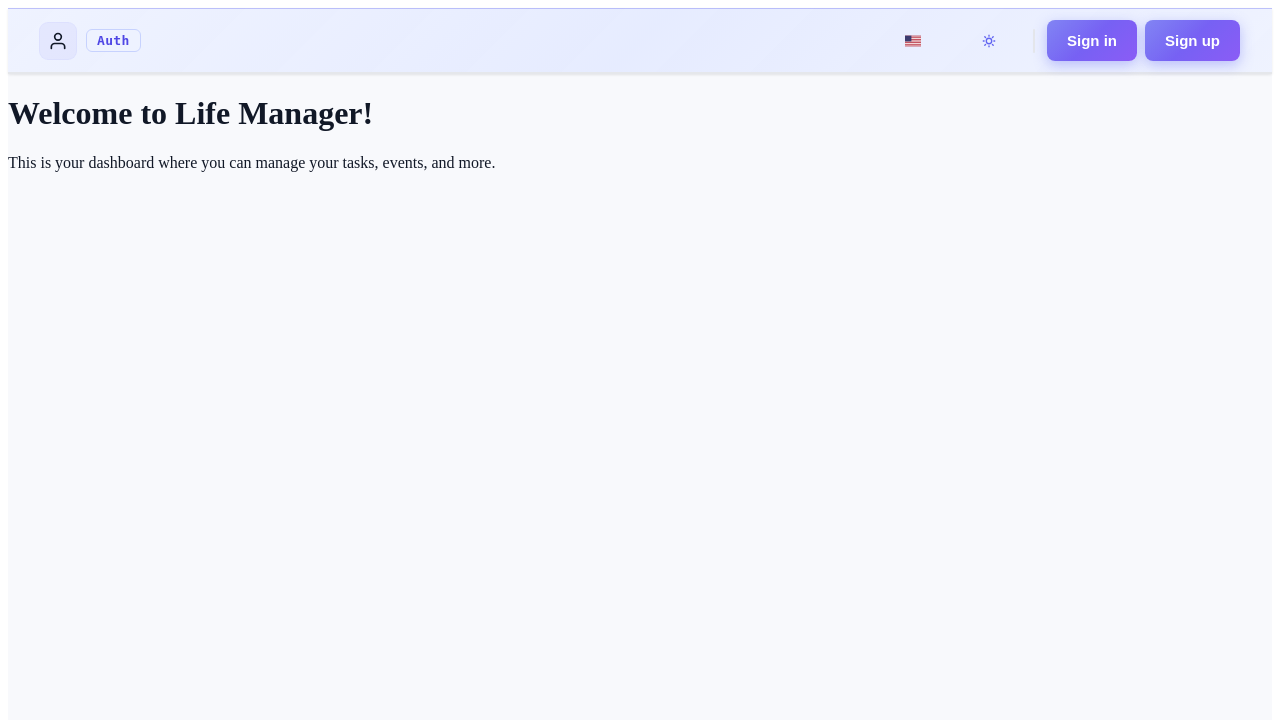
it: Navbar › walks through navbar without auth
This screenshot has width=1280, height=720.
Expected: the button "Sign up" is shown, [1145,20,1240,61]
Navigates to login page
Step 1. Click the button "Sign in" → {"x": 1092, "y": 41}, box [1047,20,1137,61]
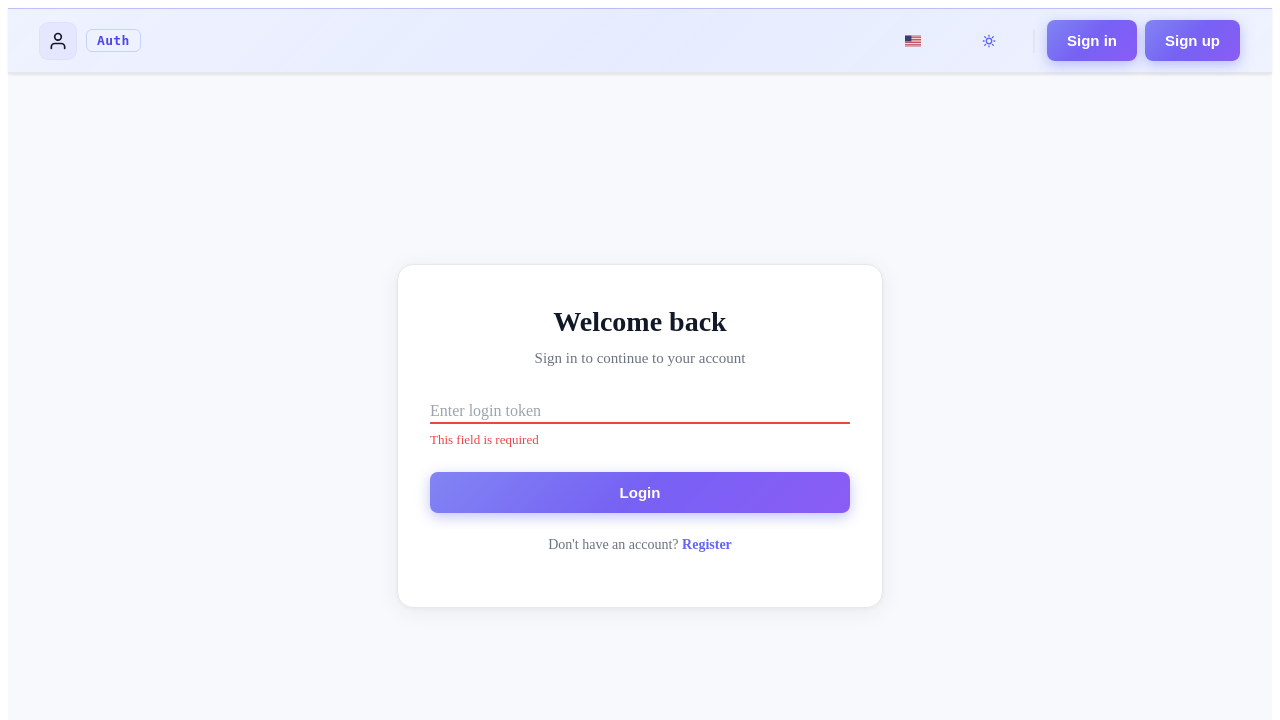
Expected: the heading "Welcome back" is shown, [553,306,727,338]
Navigates to register page
Step 2. Click the button "Sign up" → {"x": 1193, "y": 41}, box [1145,20,1240,61]
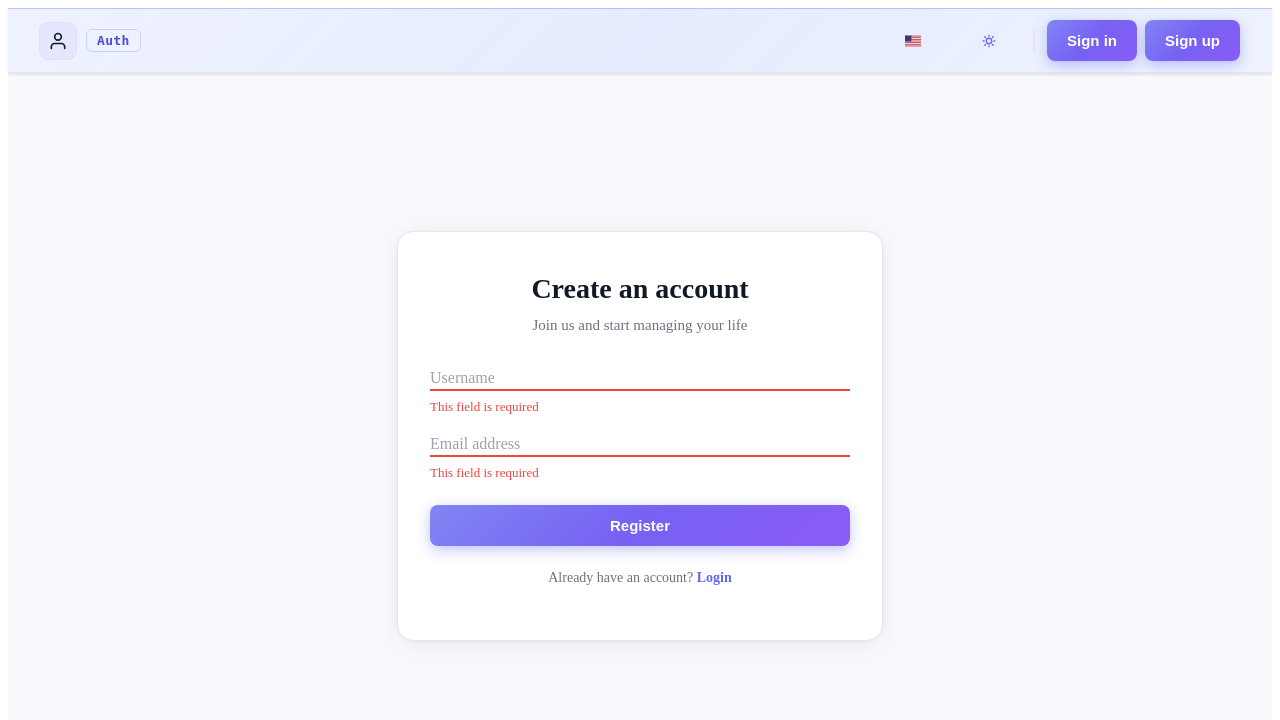
Expected: the heading "Create an account" is shown, [531,274,749,304]
